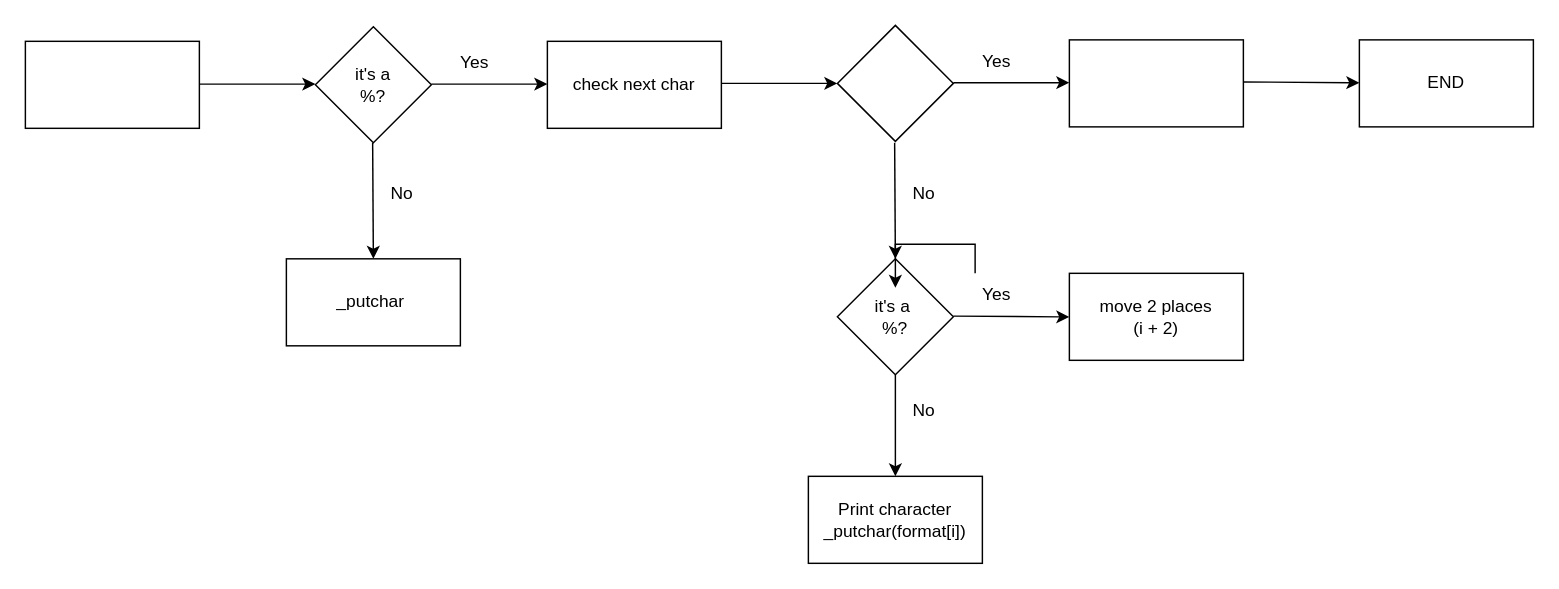
The diagram is 1559 pixels wide and 589 high, and some of its shapes have lost their labels. Each missing label, with the centre of its shape:
"Call function" goes at point (1155, 82).
"Inicio" goes at point (111, 84).
"it's a function?" goes at point (894, 82).
